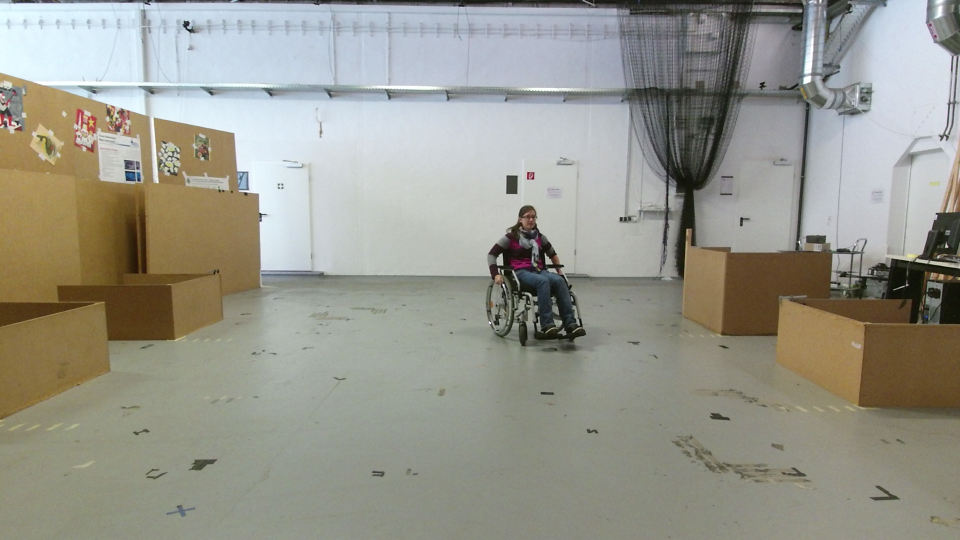wheelchair: (473, 197, 591, 346)
